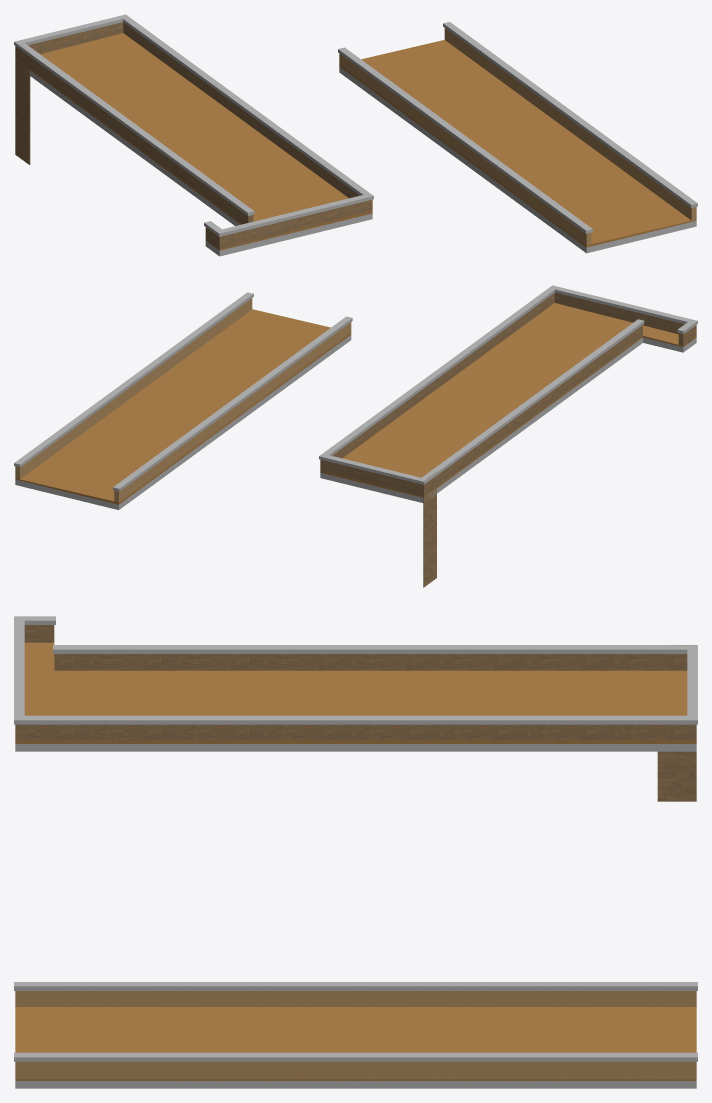
File: roof-bundle-dyers-dogleg.glb
3 views of the same model, one above another, from view 1: azimuth 30°, elevation 25°; view 2: azimuth 150°, elevation 25°; view 3: azimuth 270°, elevation 25° (orthographic). The views are drawn at different scales.
Parts seen in each view (by area): view 1: bz06_faded_ochre-receive, ph_bz04_stone_trim_sandstone-cast, bz06_service_stone-cast, bz06_sand_plaster-cast; view 2: bz06_faded_ochre-receive, ph_bz04_stone_trim_sandstone-cast, bz06_service_stone-cast, bz06_sand_plaster-cast; view 3: bz06_faded_ochre-receive, ph_bz04_stone_trim_sandstone-cast, bz06_service_stone-cast, bz06_sand_plaster-cast.
Boxes of the visible parts, <box> form: bz06_faded_ochre-receive: <box>15,33,696,250</box>; ph_bz04_stone_trim_sandstone-cast: <box>14,14,697,256</box>; bz06_service_stone-cast: <box>15,22,372,250</box>; bz06_sand_plaster-cast: <box>339,28,696,246</box>; bz06_faded_ochre-receive: <box>15,303,696,504</box>; ph_bz04_stone_trim_sandstone-cast: <box>14,285,697,509</box>; bz06_service_stone-cast: <box>320,292,696,587</box>; bz06_sand_plaster-cast: <box>15,298,351,503</box>; bz06_faded_ochre-receive: <box>15,642,696,1080</box>; ph_bz04_stone_trim_sandstone-cast: <box>14,616,697,1088</box>; bz06_service_stone-cast: <box>15,625,696,801</box>; bz06_sand_plaster-cast: <box>15,991,696,1080</box>.
Bounding box in the file's own units: 15.66 × 3.53 × 14.06.
Materials: 5 (4 with a texture image).
